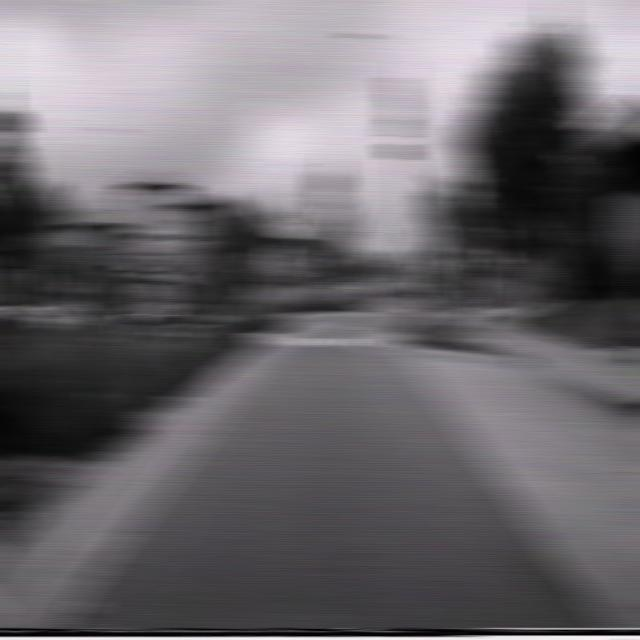pedestrianCrossing: (412, 212, 448, 258)
yield: (396, 230, 422, 252)
